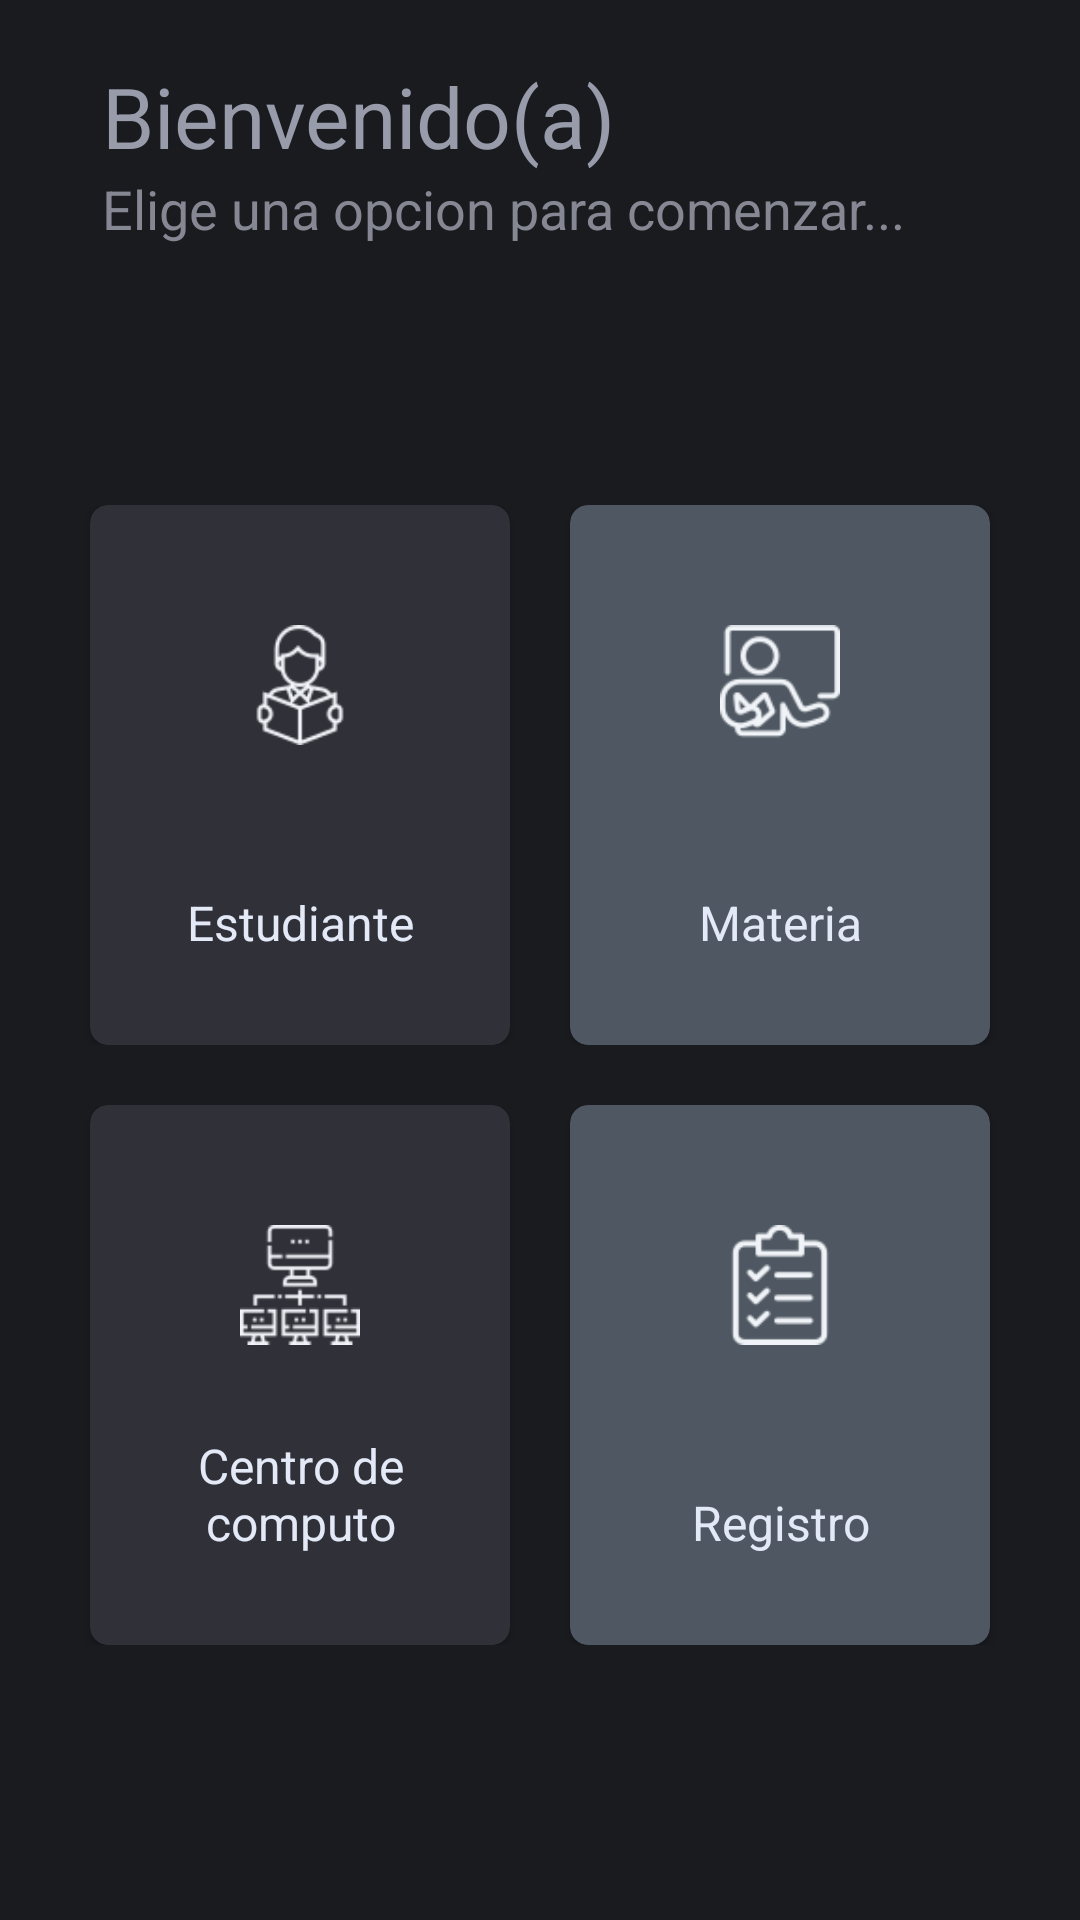

Where to tap for icons on this 1080×1920 app screen, as point (x, y):
student: point (300, 685)
teacher: point (780, 681)
